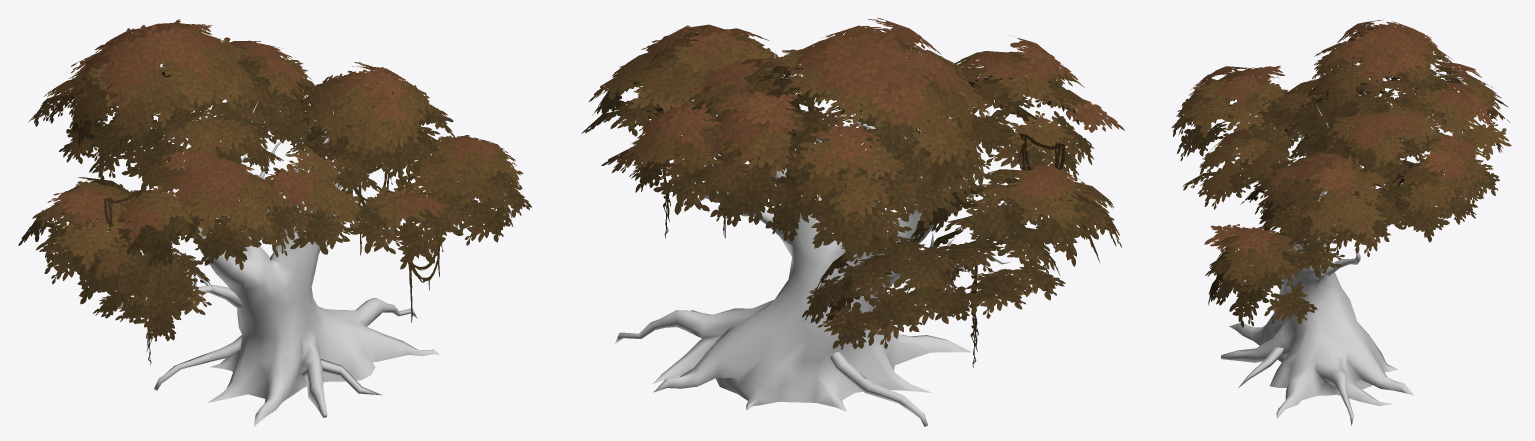
File: zhiwu_02.fbx
3 views of the same model, side by side, from view 1: azimuth 30°, elevation 25°; view 2: azimuth 150°, elevation 25°; view 3: azimuth 270°, elevation 25° (orthographic). The views are drawn at different scales.
Parts seen in each view (by area): view 1: zhiwu_02_01, zhiwu_02_02; view 2: zhiwu_02_01, zhiwu_02_02; view 3: zhiwu_02_01, zhiwu_02_02.
Part boxes in pixels (left/top/right/bottom): zhiwu_02_01: left=18, top=19, right=531, bottom=365; zhiwu_02_02: left=154, top=100, right=439, bottom=426; zhiwu_02_01: left=581, top=18, right=1124, bottom=367; zhiwu_02_02: left=614, top=50, right=1010, bottom=426; zhiwu_02_01: left=1171, top=19, right=1511, bottom=327; zhiwu_02_02: left=1221, top=106, right=1413, bottom=425.
Size of the model in its own units: 2311 by 1633 by 1713.
